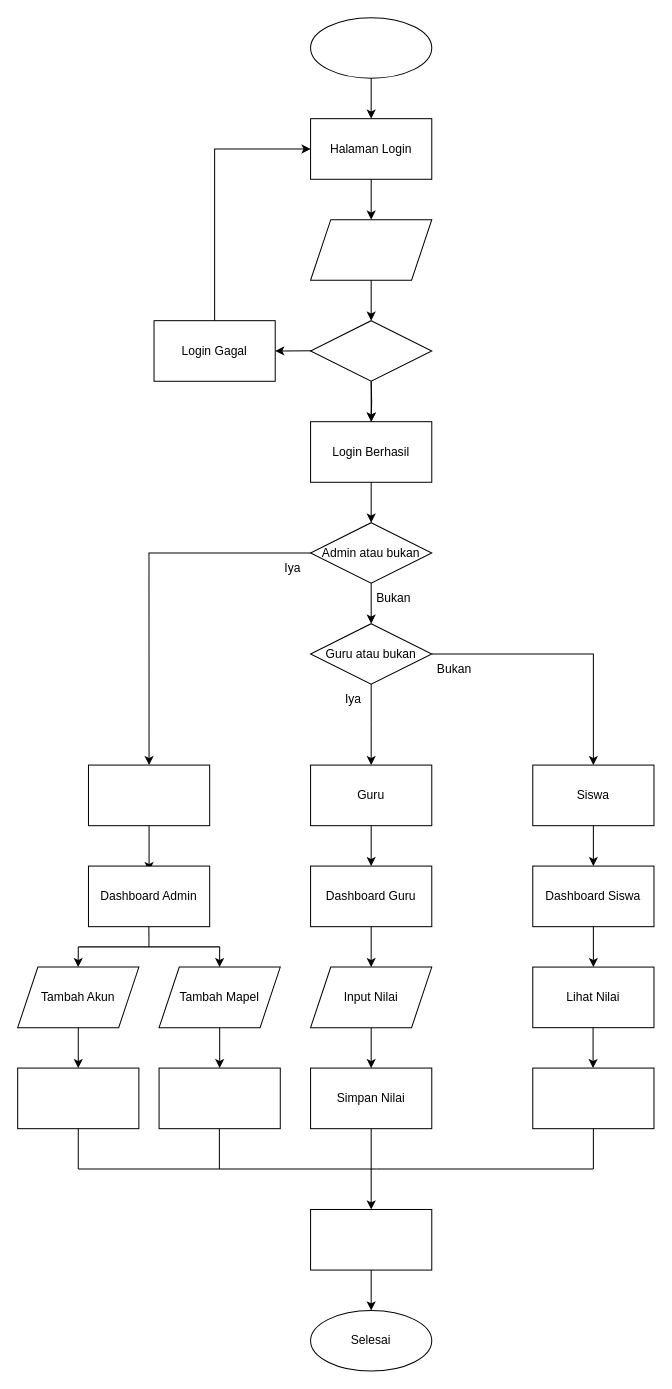
The diagram is 672 pixels wide and 1389 high, and some of its shapes have lost their labels. Each missing label, with the box of its shape:
Admin: (87, 764, 210, 826)
Input Email dan Password: (310, 219, 432, 280)
Logout: (310, 1208, 432, 1270)
Mulai: (310, 17, 432, 78)
Nilai Tampil: (532, 1067, 654, 1129)
Simpan Akun: (17, 1067, 139, 1129)
Simpan Mapel: (158, 1067, 280, 1129)
Validasi Akun: (310, 320, 432, 381)
